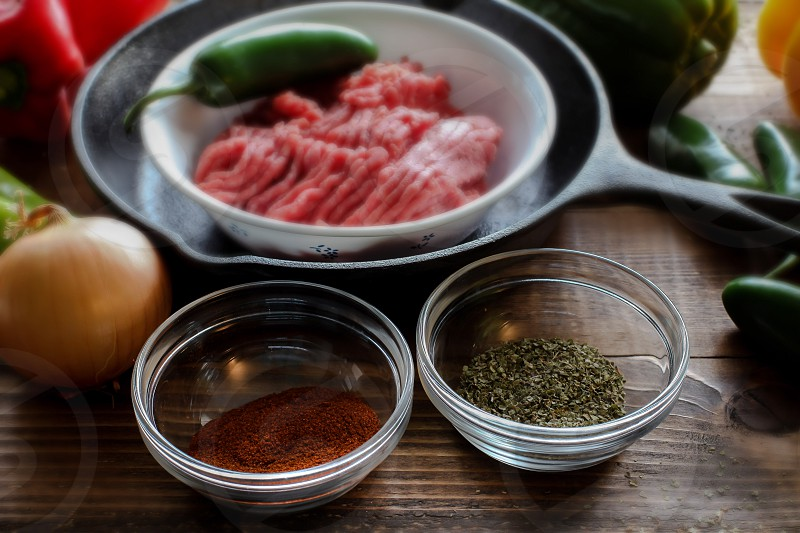ground_beef: (238, 69, 503, 241)
